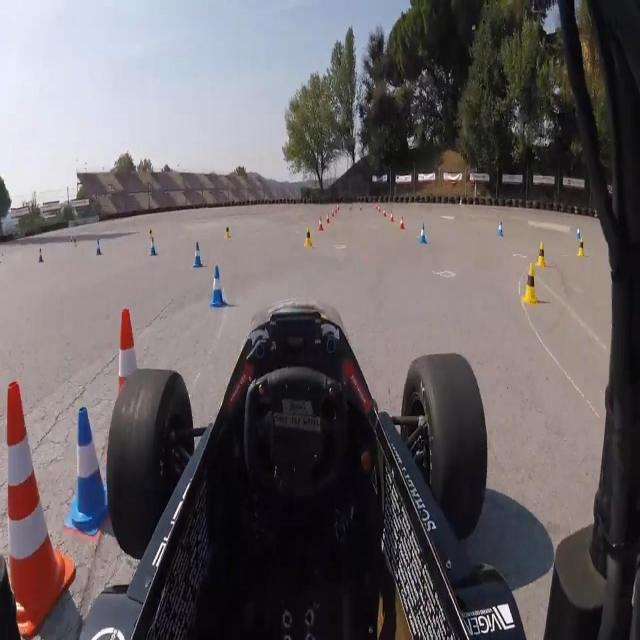blue_cone: (62, 402, 113, 538), (209, 264, 226, 308), (192, 240, 204, 268), (418, 222, 428, 245), (148, 237, 158, 257), (497, 220, 504, 237), (96, 238, 102, 257), (576, 225, 582, 240), (39, 248, 44, 263)
large_orange_cone: (1, 380, 77, 640), (106, 308, 150, 487)
orange_cone: (316, 216, 324, 233), (398, 215, 405, 230), (325, 212, 331, 225), (390, 210, 394, 222), (383, 207, 387, 218), (331, 208, 335, 217)
yellow_cone: (521, 260, 540, 306), (535, 240, 547, 268), (304, 228, 313, 248), (577, 236, 585, 258), (224, 224, 232, 239), (148, 226, 153, 240)
